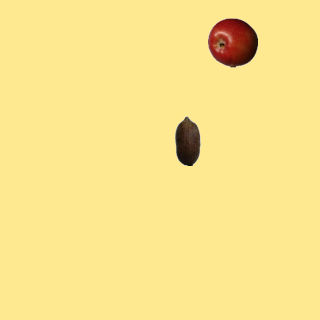Apple Braeburn: (207, 17, 257, 67)
Nut Pecan: (162, 115, 212, 165)
